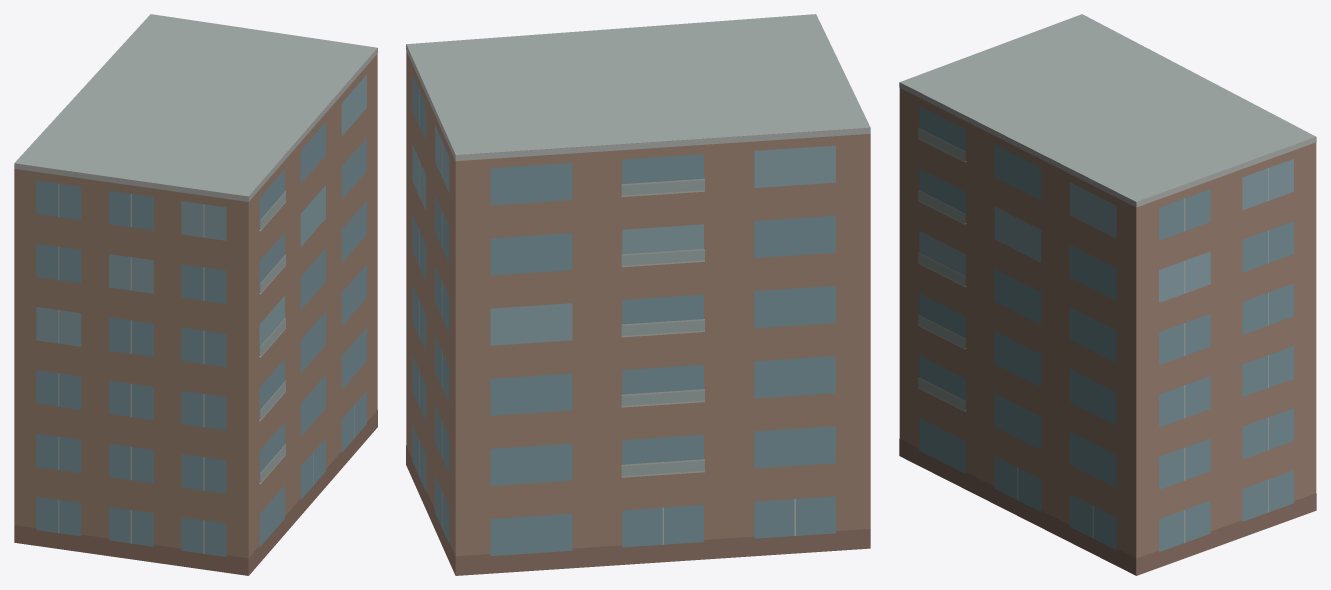
The model's file is survey-upis-32961410.glb.
The picture shows the model from 3 angles, left to right: view 1: azimuth 30°, elevation 25°; view 2: azimuth 150°, elevation 25°; view 3: azimuth 270°, elevation 25°; orthographic projection. The views are drawn at different scales.
Parts seen in each view (by area): view 1: survey-upis-32961410.tmp; view 2: survey-upis-32961410.tmp; view 3: survey-upis-32961410.tmp.
Boxes of the visible parts, bbox=[...] form: survey-upis-32961410.tmp: bbox=[14, 14, 377, 575]; survey-upis-32961410.tmp: bbox=[406, 14, 870, 575]; survey-upis-32961410.tmp: bbox=[899, 14, 1316, 575].
Size of the model in its own units: 18.03 by 16.7 by 16.89.
